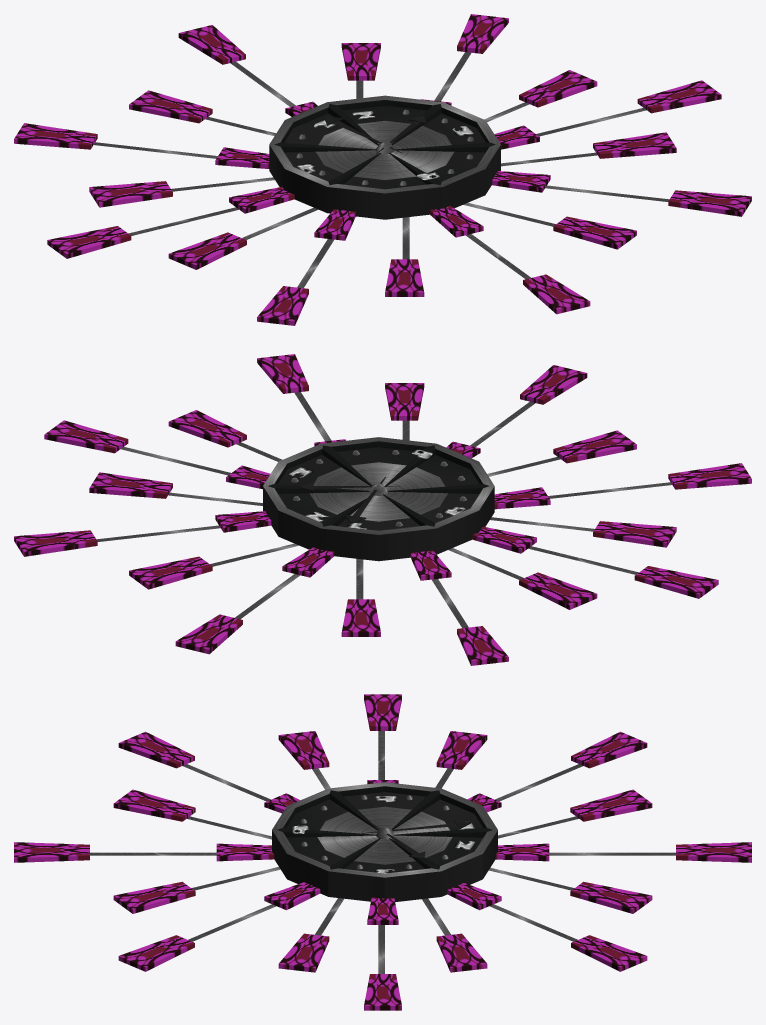
The model's file is Clock_01_H.FBX.
3 views of the same model, one above another, from view 1: azimuth 30°, elevation 25°; view 2: azimuth 150°, elevation 25°; view 3: azimuth 270°, elevation 25° (orthographic). The views are drawn at different scales.
Parts seen in each view (by area): view 1: Starburst_Clock; view 2: Starburst_Clock; view 3: Starburst_Clock.
Part boxes in pixels (box(x1,y1,x2,y2)): Starburst_Clock: box(14, 14, 751, 325); Starburst_Clock: box(14, 354, 751, 665); Starburst_Clock: box(14, 694, 751, 1010).
Bounding box in the file's own units: 78.3 × 3.32 × 78.3.
